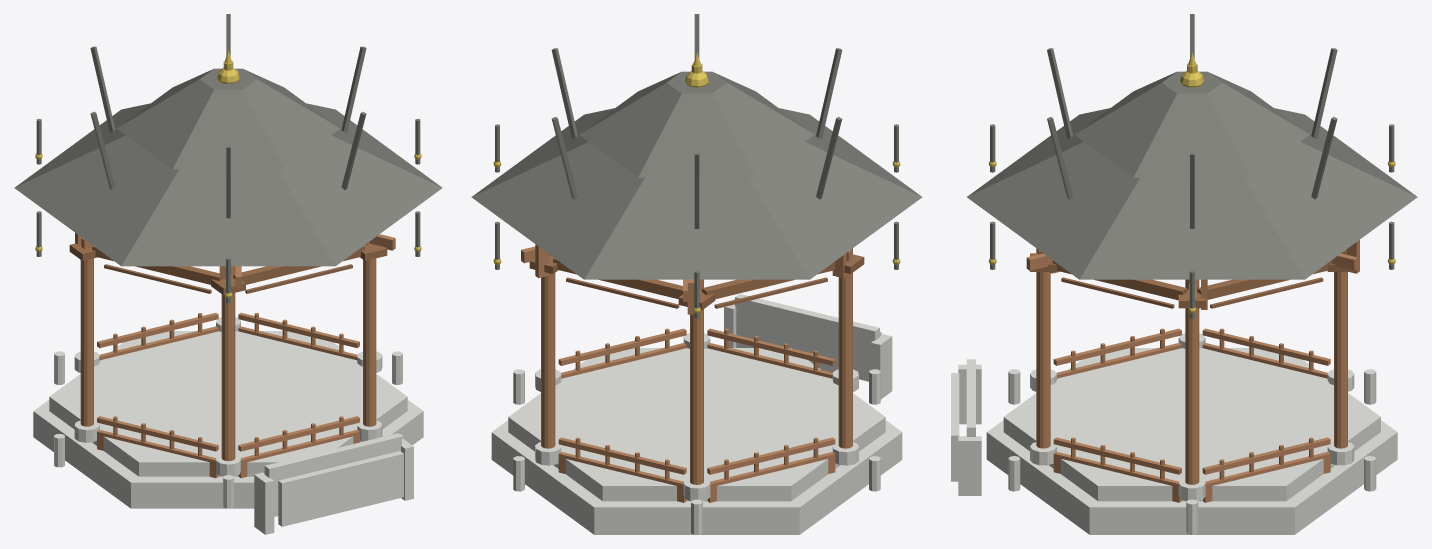
The model's file is pavilion.glb.
3 renders of one model, left to right at view 1: azimuth 30°, elevation 25°; view 2: azimuth 150°, elevation 25°; view 3: azimuth 270°, elevation 25°, orthographic. The views are drawn at different scales.
Parts seen in each view (by area): view 1: roof_lower, base_upper, roof_upper, base_lower, step_2, step_1, column.004, column.005, column.003, step_side_l, bench.003, beam.003 (+13 smaller); view 2: roof_lower, base_upper, roof_upper, base_lower, step_1, column.001, column.003, column.002, step_side_l, bench.002, bench.001, beam.002 (+11 smaller); view 3: roof_lower, base_upper, roof_upper, base_lower, column.005, column, column.001, step_side_r, bench, bench.005, beam.005, back_rail.002 (+13 smaller).
Part boxes in pixels (x1=…): roof_lower: x1=14, y1=103, x2=442, y2=266; base_upper: x1=49, y1=331, x2=407, y2=476; roof_upper: x1=117, y1=68, x2=339, y2=169; base_lower: x1=33, y1=400, x2=423, y2=508; step_2: x1=278, y1=451, x2=403, y2=526; step_1: x1=264, y1=433, x2=401, y2=516; column.004: x1=221, y1=293, x2=235, y2=461; column.005: x1=363, y1=258, x2=376, y2=426; column.003: x1=80, y1=258, x2=93, y2=426; step_side_l: x1=254, y1=472, x2=274, y2=534; bench.003: x1=97, y1=429, x2=218, y2=478; beam.003: x1=92, y1=246, x2=221, y2=284; roof_lower: x1=471, y1=108, x2=922, y2=279; base_upper: x1=508, y1=348, x2=885, y2=501; roof_upper: x1=579, y1=71, x2=814, y2=177; base_lower: x1=491, y1=420, x2=902, y2=534; step_1: x1=735, y1=294, x2=879, y2=381; column.001: x1=541, y1=273, x2=555, y2=448; column.003: x1=838, y1=273, x2=852, y2=448; column.002: x1=690, y1=309, x2=703, y2=484; step_side_l: x1=871, y1=334, x2=892, y2=399; bench.002: x1=707, y1=452, x2=835, y2=502; bench.001: x1=558, y1=452, x2=686, y2=502; beam.002: x1=702, y1=261, x2=834, y2=299; roof_lower: x1=967, y1=108, x2=1417, y2=279; base_upper: x1=1003, y1=348, x2=1380, y2=501; roof_upper: x1=1074, y1=71, x2=1309, y2=177; base_lower: x1=986, y1=420, x2=1397, y2=534; column.005: x1=1036, y1=272, x2=1050, y2=448; column: x1=1185, y1=308, x2=1199, y2=484; column.001: x1=1334, y1=272, x2=1347, y2=448; step_side_r: x1=958, y1=436, x2=981, y2=495; bench: x1=1203, y1=452, x2=1330, y2=502; bench.005: x1=1053, y1=451, x2=1181, y2=502; beam.005: x1=1052, y1=260, x2=1187, y2=300; back_rail.002: x1=1202, y1=328, x2=1330, y2=365.
Bounding box in the file's own units: 6.95 × 6.68 × 6.93.
